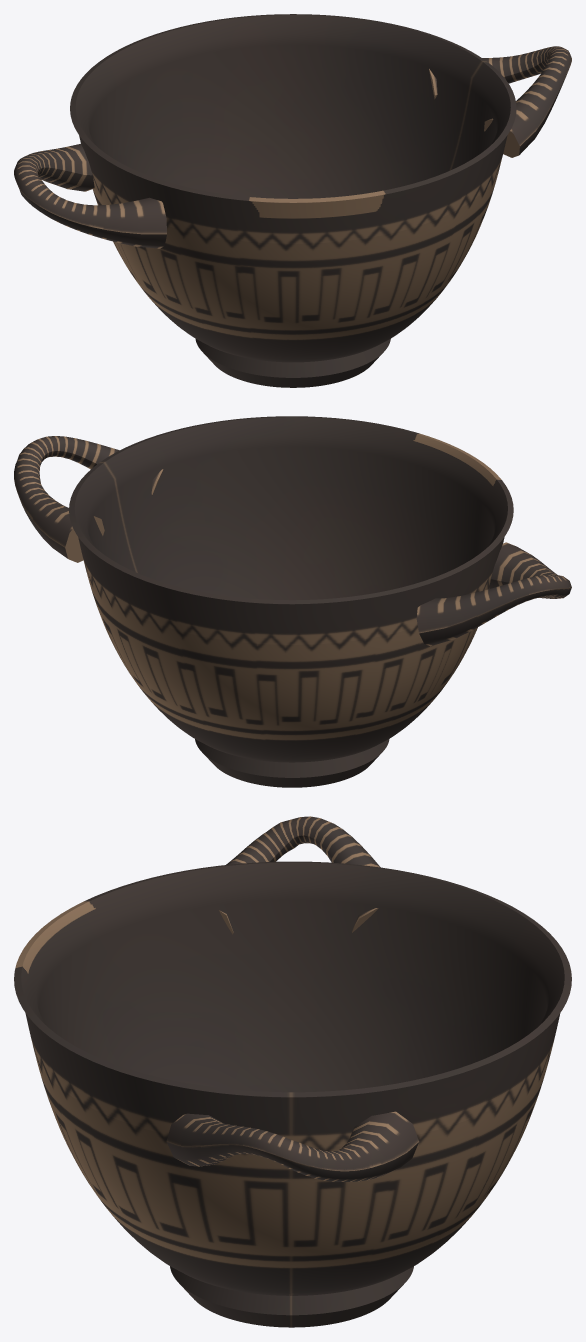
File: kylix.glb
The picture shows the model from 3 angles, top to bottom: view 1: azimuth 30°, elevation 25°; view 2: azimuth 150°, elevation 25°; view 3: azimuth 270°, elevation 25°; orthographic projection. The views are drawn at different scales.
Visible parts, largest first — view 1: kylix_LOD0; view 2: kylix_LOD0; view 3: kylix_LOD0.
Part boxes in pixels (<box>): kylix_LOD0: <box>14,14,571,387</box>; kylix_LOD0: <box>14,416,571,787</box>; kylix_LOD0: <box>14,816,571,1327</box>.
Size of what is drawn, in the model's own units: 0.2198 by 0.0957 by 0.1552.
Materials: 1 (1 with a texture image).
